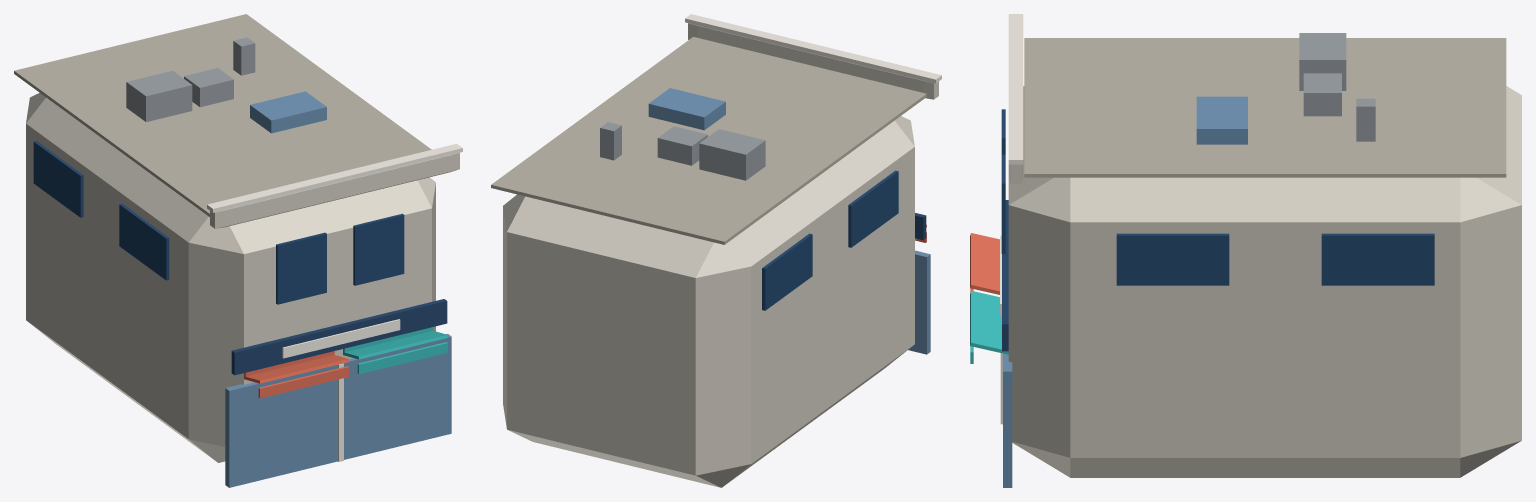
Rendered from shop_w8_f2_stripe.glb.
3 views of the same model, side by side, from view 1: azimuth 30°, elevation 25°; view 2: azimuth 150°, elevation 25°; view 3: azimuth 270°, elevation 25° (orthographic). The views are drawn at different scales.
Visible parts, largest first — view 1: walls, roofslab, shopglass, parapet, fascia, win.001, win, hvac, pcap, sb, sb.002, skylt (+8 smaller); view 2: walls, roofslab, parapet, hvac, pcap, sb, sb.002, skylt, shopglass, hvac2, pipe; view 3: walls, roofslab, sb.003, sb.001, skylt, pcap, hvac, awn.001, hvac2, awn, shopglass, fascia (+1 smaller).
Part boxes in pixels (<box>): walls: <box>26,93,435,462</box>; roofslab: <box>14,14,431,216</box>; shopglass: <box>225,334,451,487</box>; parapet: <box>210,153,459,228</box>; fascia: <box>231,299,447,375</box>; win.001: <box>353,213,404,285</box>; win: <box>276,232,326,304</box>; hvac: <box>126,70,192,121</box>; pcap: <box>207,143,462,212</box>; sb: <box>119,203,169,280</box>; sb.002: <box>33,141,83,217</box>; skylt: <box>250,91,326,133</box>; walls: <box>503,116,914,487</box>; roofslab: <box>491,37,926,244</box>; parapet: <box>688,23,938,99</box>; hvac: <box>699,129,765,180</box>; pcap: <box>685,14,941,83</box>; sb: <box>848,170,898,247</box>; sb.002: <box>762,233,812,310</box>; skylt: <box>648,88,725,130</box>; shopglass: <box>908,250,930,354</box>; hvac2: <box>657,126,707,165</box>; pipe: <box>600,122,621,160</box>; walls: <box>1008,86,1521,477</box>; roofslab: <box>1024,38,1506,177</box>; sb.003: <box>1321,233,1434,285</box>; sb.001: <box>1116,233,1229,285</box>; skylt: <box>1196,96,1247,144</box>; pcap: <box>1008,14,1023,164</box>; hvac: <box>1299,33,1346,90</box>; awn.001: <box>970,290,1008,354</box>; hvac2: <box>1303,73,1341,116</box>; awn: <box>970,233,999,294</box>; shopglass: <box>1003,353,1012,487</box>; fascia: <box>1002,200,1008,351</box>.
Bounding box in the file's own units: 8.2 × 9.1 × 12.91.
